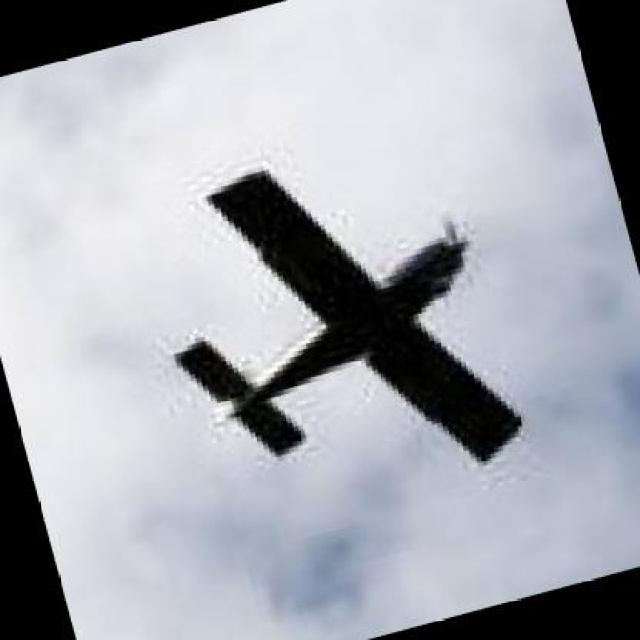iha: (174, 169, 523, 472)
